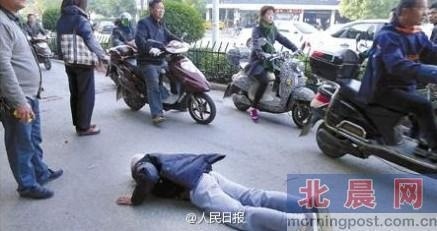falling: (98, 142, 346, 230)
